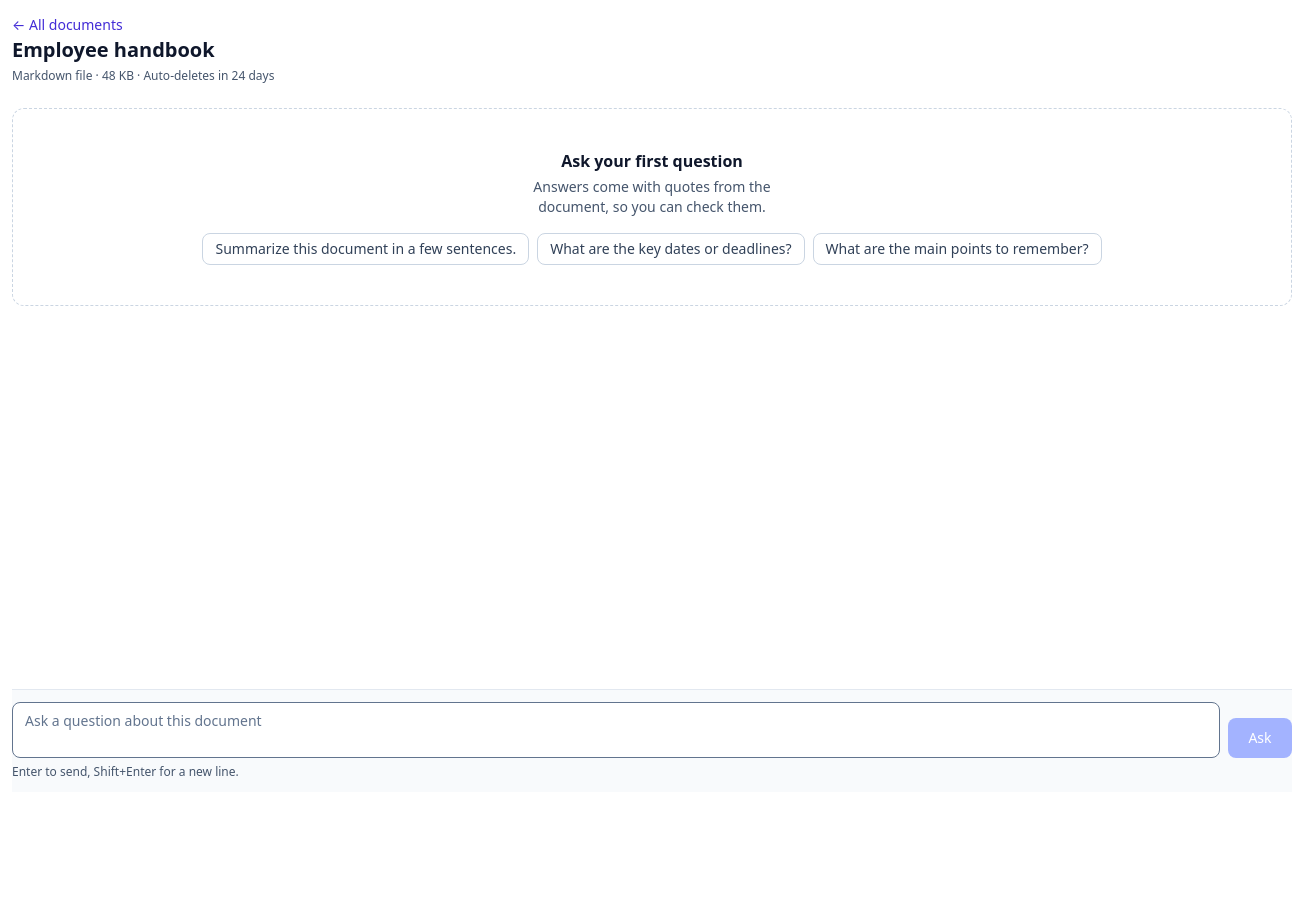
ChatView: asking a question › offers starter questions on an empty thread and asks the one that is clicked
Check: the heading "Ask your first question" is shown, box [561,150,743,172]
Click the button "What are the key dates or deadlines?".
click(671, 249)  # box [537,233,805,265]
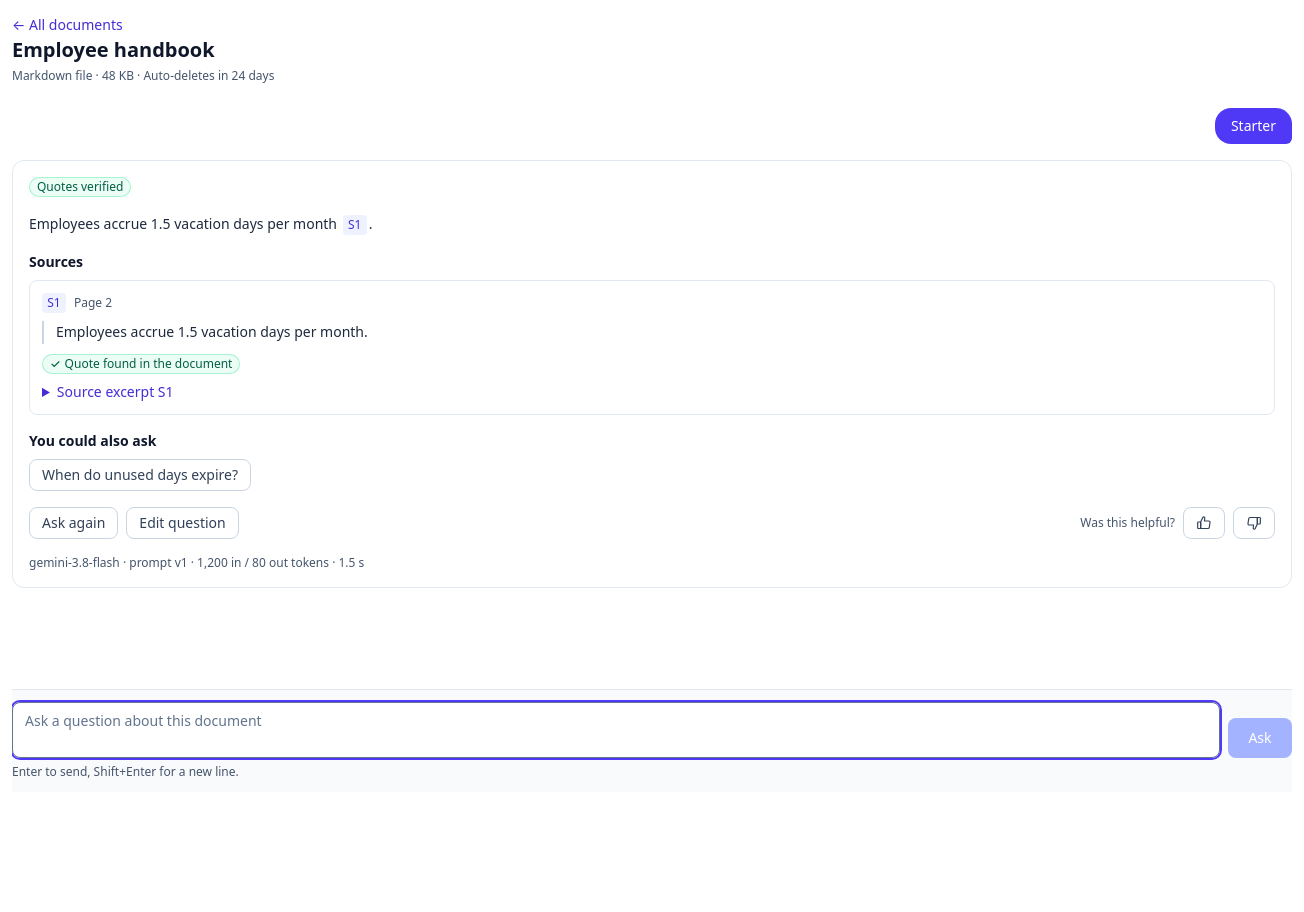
Check: the element named "Answer" is shown, box [12,160,1292,588]
Check: the heading "Ask your first question" is gone
